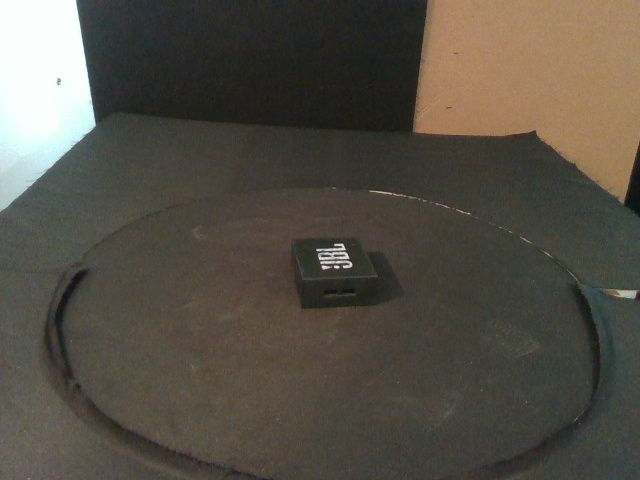speaker: (290, 238, 381, 309)
